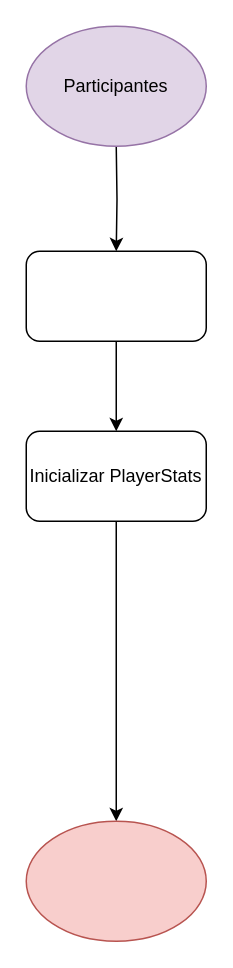
Some shapes in this 233 by 968 pixel diagram are drawn without their labels. The shapes that lost their labels are listed below. From the top down, each one's centre as x and y in pixels, then its label:
At [115,295]: "Pedir nombres".
At [115,880]: "Fin".
